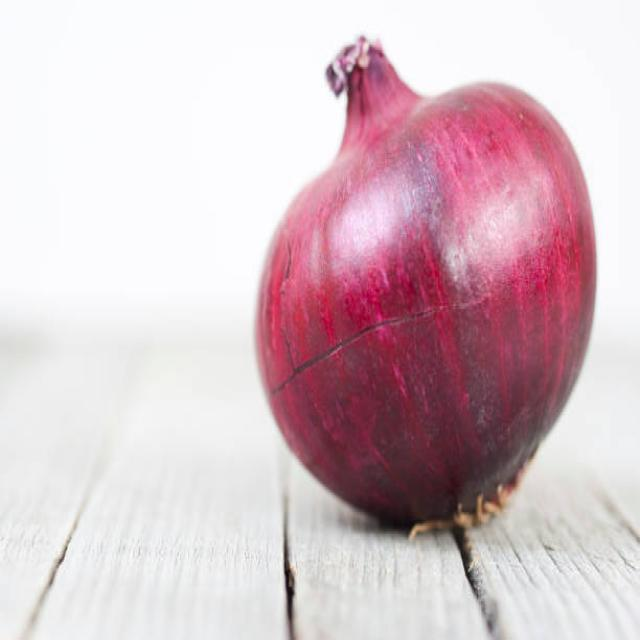onion: (259, 38, 600, 523)
